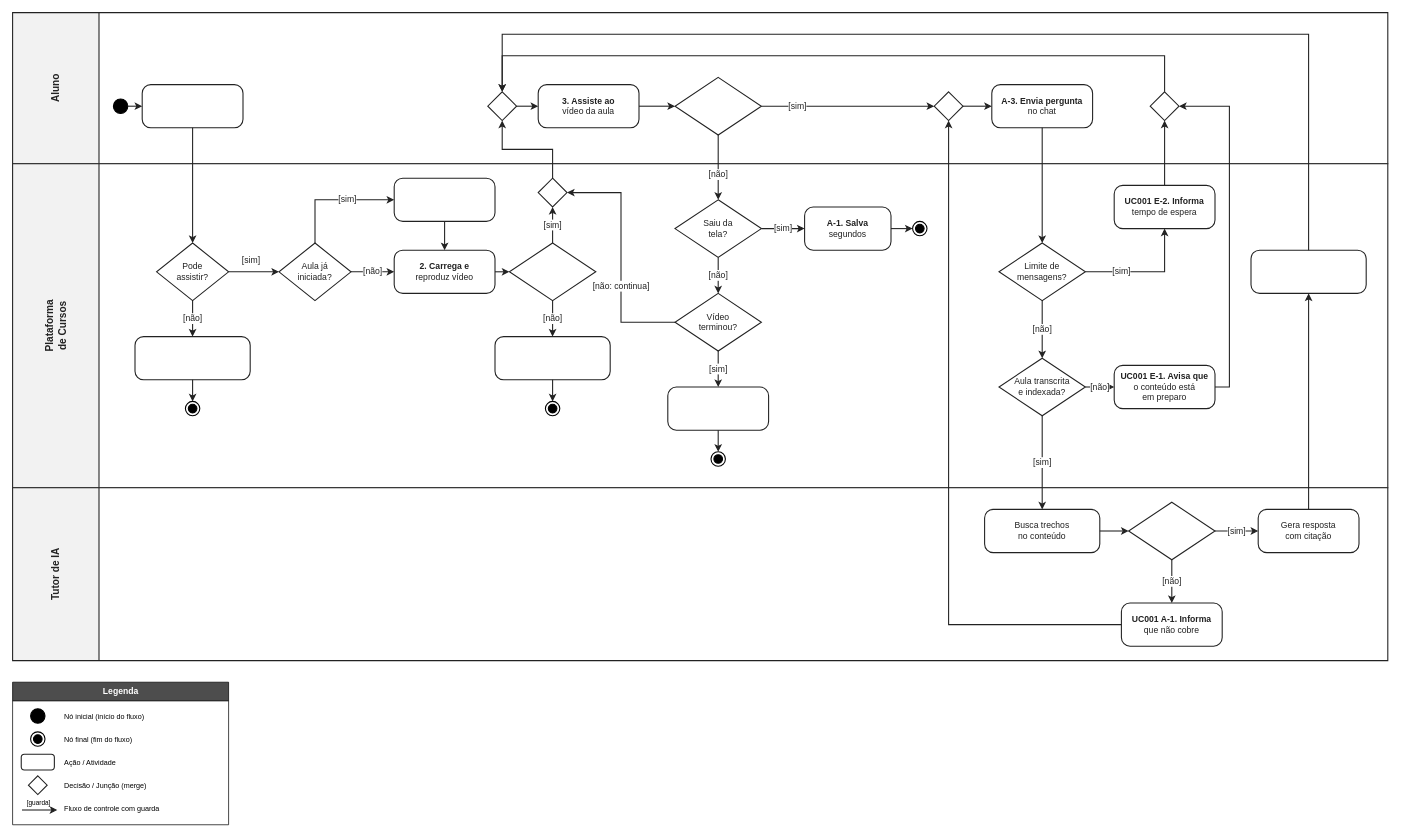
Image size: 1401x838. Some labels were removed from this diagram. The box of each missing label's shape, as (x1, y1, x2, y2) in pixels:
1. Acessa aula no curso: (141, 84, 243, 128)
4. Conclui aula e atualiza progresso: (667, 386, 769, 430)
A-2. Posiciona vídeo no ponto salvo: (393, 177, 495, 222)
E-1. Bloqueia e sugere matrícula: (134, 336, 250, 380)
E-2. Exibe erro e oferece recarregar: (494, 336, 610, 380)
Exibe resposta e salva histórico: (1250, 249, 1366, 294)
Tem dúvida?: (674, 77, 762, 135)
Trecho relevante?: (1128, 501, 1215, 560)
Vídeo carregou?: (509, 242, 596, 301)
